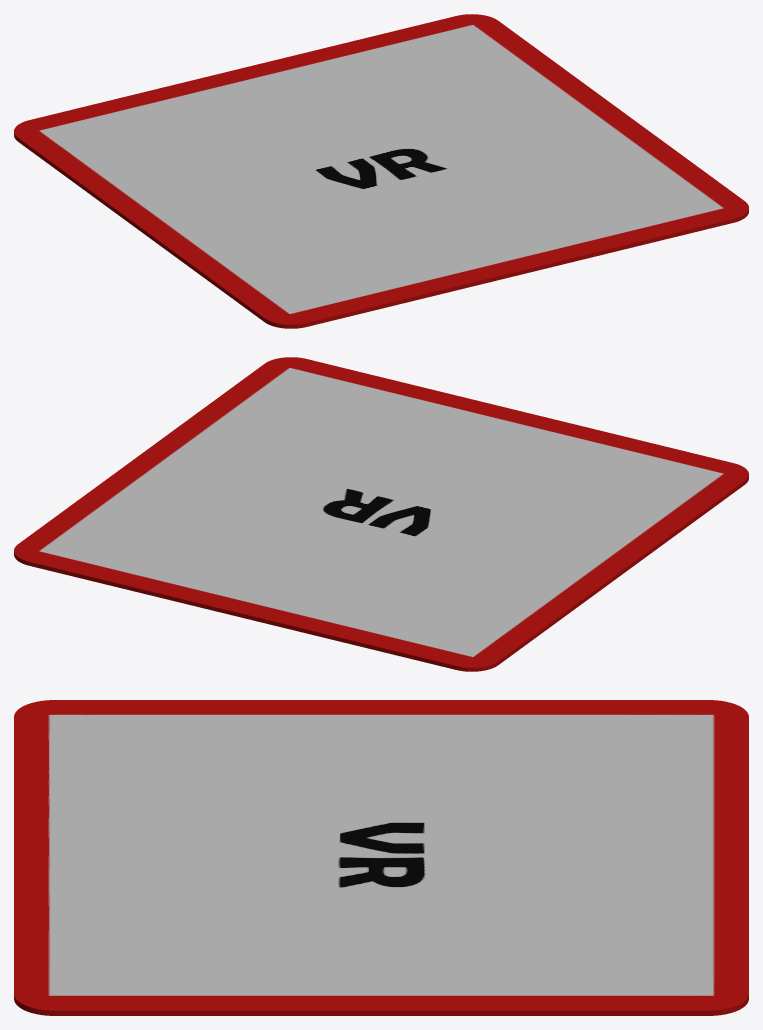
The model's file is tapis_vr.fbx.
The picture shows the model from 3 angles, top to bottom: view 1: azimuth 30°, elevation 25°; view 2: azimuth 150°, elevation 25°; view 3: azimuth 270°, elevation 25°; orthographic projection. The views are drawn at different scales.
Visible parts, largest first — view 1: Plane; view 2: Plane; view 3: Plane.
Boxes of the visible parts, x1,y1,x2,y2 form: Plane: (14,14,748,328); Plane: (14,357,748,671); Plane: (14,700,748,1015).
Bounding box in the file's own units: 125 × 1 × 125.
1 material, 1 textured.
